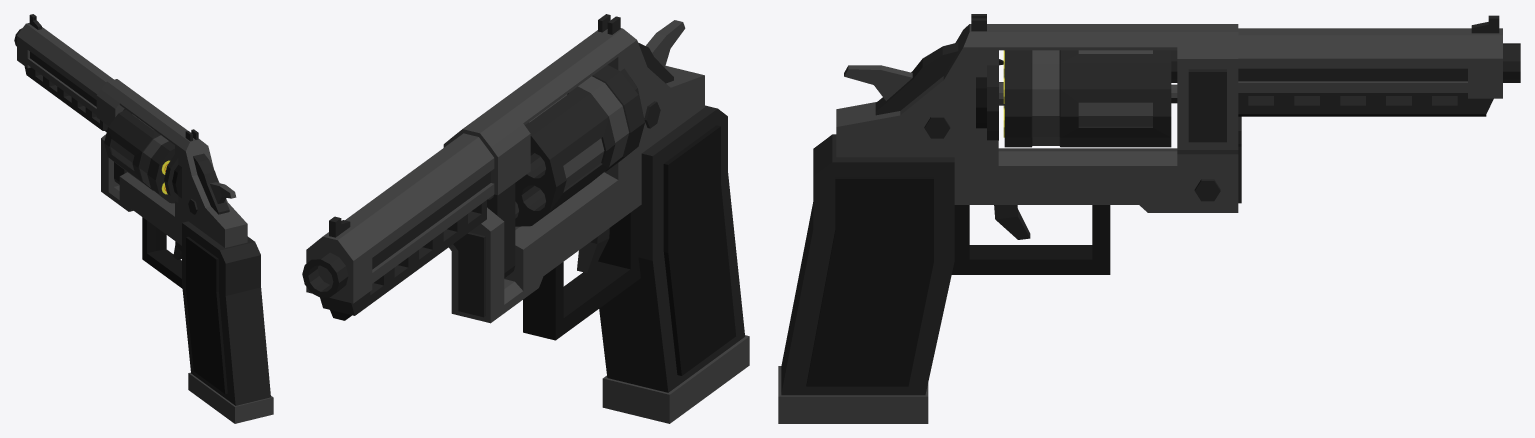
The model's file is revolver-named-nodes.glb.
3 renders of one model, left to right at view 1: azimuth 30°, elevation 25°; view 2: azimuth 150°, elevation 25°; view 3: azimuth 270°, elevation 25°, orthographic. The views are drawn at different scales.
Visible parts, largest first — view 1: Blazeson & Julius 357, B&J 357 cylinder; view 2: Blazeson & Julius 357, B&J 357 cylinder, B&J 357 reloader; view 3: Blazeson & Julius 357, B&J 357 cylinder.
Part boxes in pixels (x1,y1,x2,y2): Blazeson & Julius 357: [14, 14, 273, 423]; B&J 357 cylinder: [104, 109, 174, 203]; Blazeson & Julius 357: [302, 14, 749, 423]; B&J 357 cylinder: [515, 65, 644, 226]; B&J 357 reloader: [487, 183, 515, 277]; Blazeson & Julius 357: [778, 14, 1520, 423]; B&J 357 cylinder: [1004, 50, 1171, 147].
Size of the model in its own units: 0.1253 by 0.4993 by 0.8586.
Materials: 1 (1 with a texture image).
